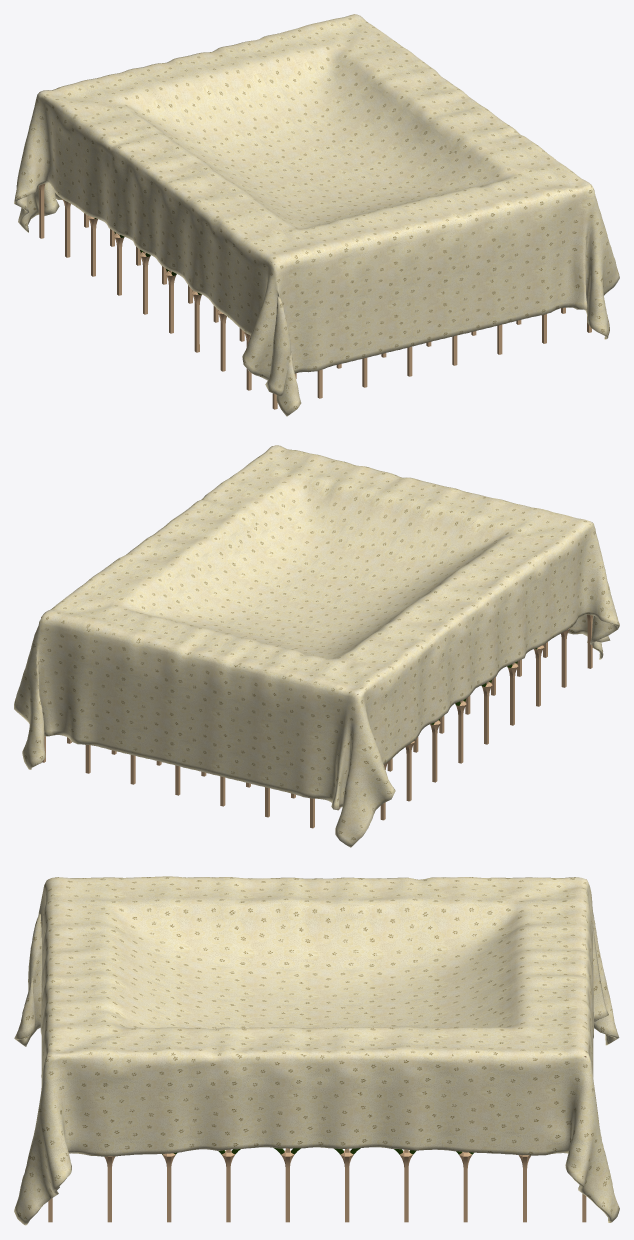
Rendered from tableclothtowers.fbx.
3 views of the same model, one above another, from view 1: azimuth 30°, elevation 25°; view 2: azimuth 150°, elevation 25°; view 3: azimuth 270°, elevation 25° (orthographic). The views are drawn at different scales.
Visible parts, largest first — view 1: Plane, Circle.001; view 2: Plane, Circle.001; view 3: Plane, Circle.001.
Part boxes in pixels (<box>): Plane: <box>14,14,619,416</box>; Circle.001: <box>39,92,591,409</box>; Plane: <box>14,445,619,847</box>; Circle.001: <box>41,445,592,828</box>; Plane: <box>14,876,619,1225</box>; Circle.001: <box>48,879,586,1222</box>.
Bounding box in the file's own units: 1689 × 642 × 2043.
3 materials, 1 textured.
